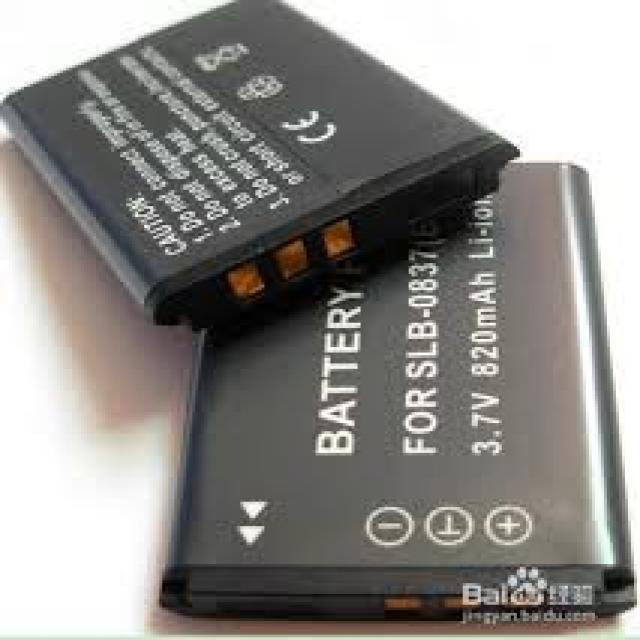battery: (155, 164, 634, 626), (0, 0, 517, 325)
